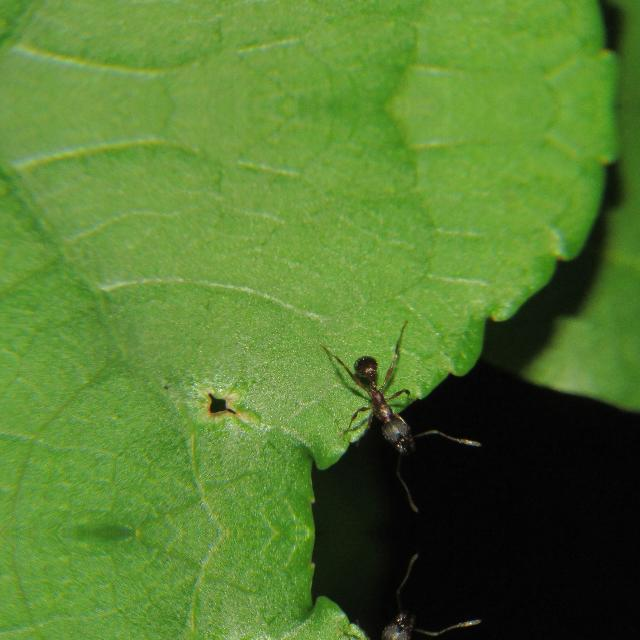Apheanogaster: (318, 336, 456, 466), (318, 598, 454, 640)
